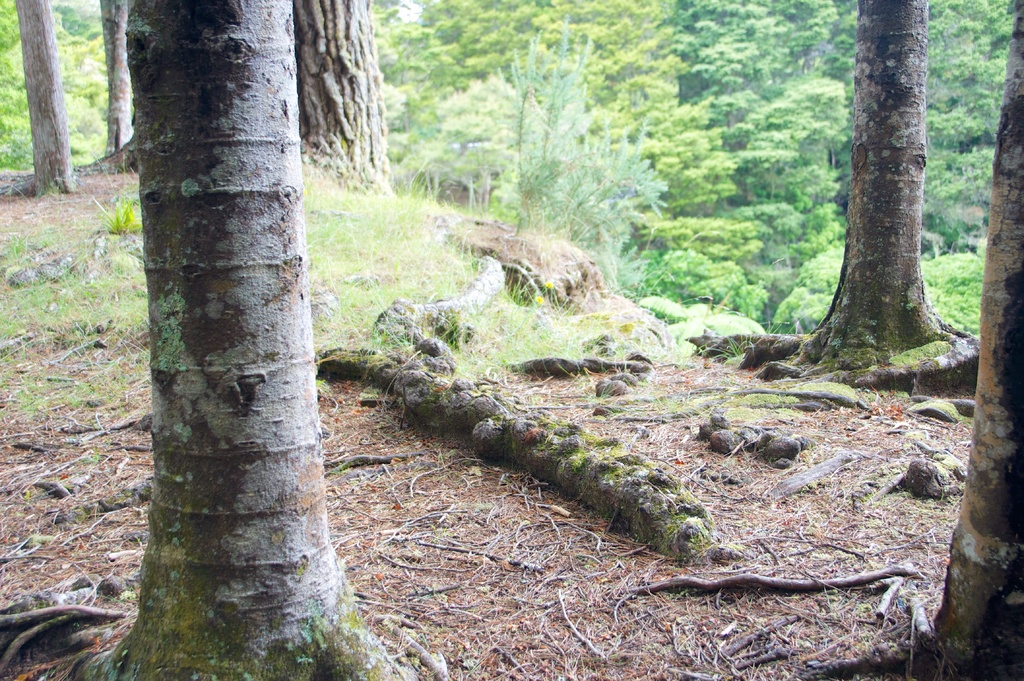Tree: (411, 0, 1023, 680), (0, 0, 414, 680)
